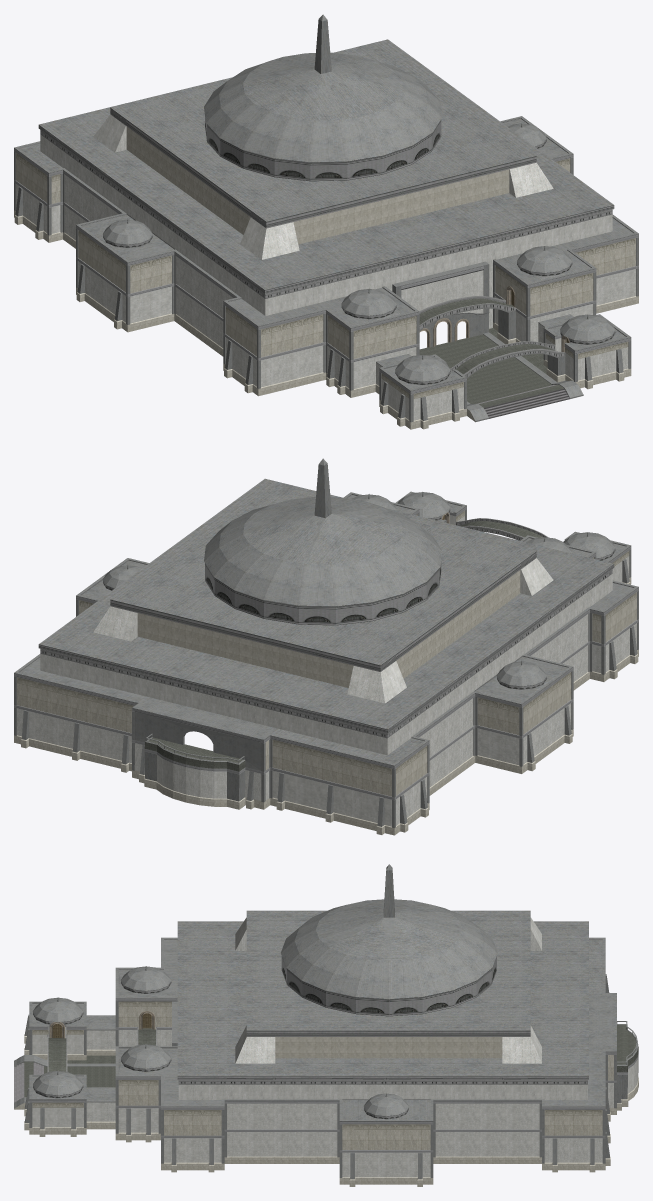
File: mun_corl_capitol_s01_r0_mesh_l0.fbx
3 renders of one model, top to bottom at view 1: azimuth 30°, elevation 25°; view 2: azimuth 150°, elevation 25°; view 3: azimuth 270°, elevation 25°, orthographic. The views are drawn at different scales.
Visible parts, largest first — view 1: mesh_node; view 2: mesh_node; view 3: mesh_node.
Part boxes in pixels (x1=…): mesh_node: x1=14, y1=14, x2=638, y2=429; mesh_node: x1=14, y1=458, x2=638, y2=835; mesh_node: x1=14, y1=864, x2=638, y2=1186.
Size of the model in its own units: 84.28 by 43.08 by 110.
